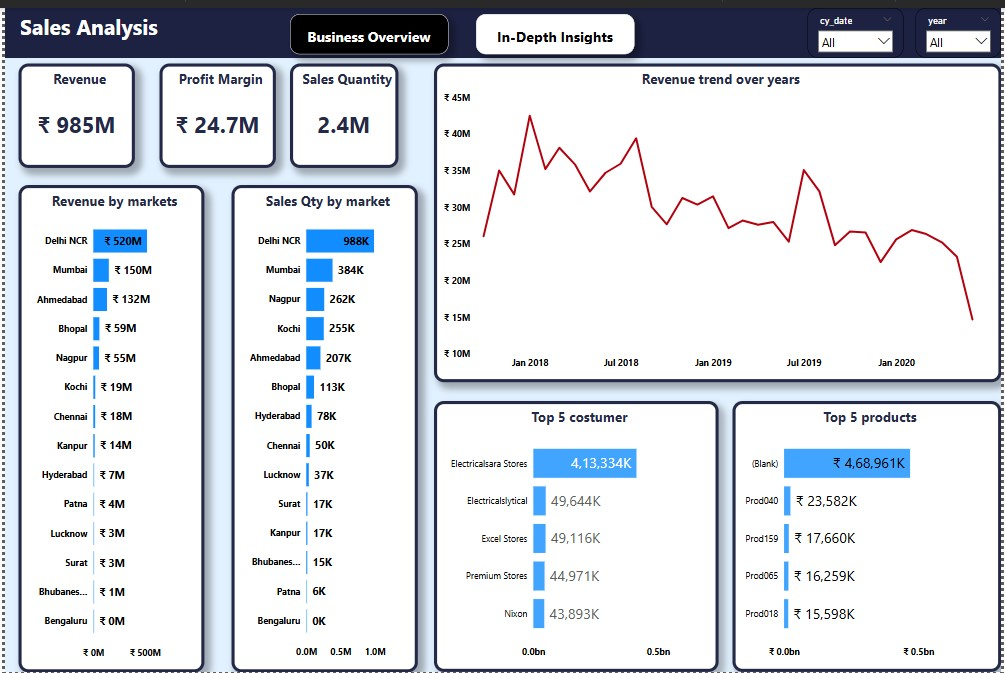

What the dashboard file says about the page in this screenshot:
{"tool":"powerbi","page":{"name":"Business Overview","canvas":[1500,1000],"ordinal":0},"visuals":[{"type":"barChart","title":"Revenue by markets","fields":{"Y":["Base Measures.Revenue"],"Category":["sales markets.markets_name"]},"box":[21.1,265.8,280,733.9],"z":0},{"type":"barChart","title":"Sales Qty by market","fields":{"Y":["Base Measures.Sales Qty"],"Category":["sales markets.markets_name"]},"box":[341.3,265.8,280.9,733.9],"z":1000},{"type":"clusteredBarChart","title":"Top 5 costumer","fields":{"Y":["Base Measures.Revenue"],"Category":["sales customers.custmer_name"]},"box":[646.3,592,428.9,407.7],"z":2000},{"type":"barChart","title":"Top 5 products","fields":{"Y":["Base Measures.Revenue"],"Category":["sales products.product_code"]},"box":[1096.3,592,404.7,407.7],"z":3000},{"type":"lineChart","title":"Revenue trend over years","fields":{"Y":["Base Measures.Revenue"],"Category":["sales date.cy_date.Variation.Date Hierarchy.Year","sales date.cy_date.Variation.Date Hierarchy.Quarter","sales date.cy_date.Variation.Date Hierarchy.Month","sales date.cy_date.Variation.Date Hierarchy.Day"]},"box":[646.3,84.6,854.7,480.2],"z":4000},{"type":"textbox","box":[0,0,1501,75.5],"z":5000},{"type":"slicer","fields":{"Values":["sales date.year"]},"box":[1371.2,0,128.8,74.5],"z":6000},{"type":"slicer","fields":{"Values":["sales date.cy_date"]},"box":[1208.6,0,144.6,74.5],"z":7000},{"type":"card","title":"Revenue","fields":{"Values":["Base Measures.Revenue"]},"box":[21.1,84.6,175.2,157.1],"z":8000},{"type":"card","title":"Sales Quantity","fields":{"Values":["Base Measures.Sales Qty"]},"box":[428.9,84.6,163.1,157.1],"z":9000},{"type":"card","title":"Profit Margin","fields":{"Values":["Base Measures.Total profit margin"]},"box":[232.6,84.6,175.2,157.1],"z":10000},{"type":"actionButton","box":[428.9,9.1,238.6,60.4],"z":11000},{"type":"actionButton","box":[709.7,9.1,238.6,60.4],"z":12000}]}

Visuals, with their boxes in screenshot pixels (x1, y1, x2, y2), scaled from the page's 1500x1000 canvas onto the 1005x673 screenshot:
"Revenue by markets" barChart: [left=14, top=179, right=202, bottom=672]
"Sales Qty by market" barChart: [left=229, top=179, right=417, bottom=672]
"Top 5 costumer" clusteredBarChart: [left=433, top=398, right=720, bottom=672]
"Top 5 products" barChart: [left=735, top=398, right=1004, bottom=672]
"Revenue trend over years" lineChart: [left=433, top=57, right=1004, bottom=380]
textbox: [left=0, top=0, right=1004, bottom=51]
slicer - sales date.year: [left=919, top=0, right=1004, bottom=50]
slicer - sales date.cy_date: [left=810, top=0, right=907, bottom=50]
"Revenue" card: [left=14, top=57, right=132, bottom=163]
"Sales Quantity" card: [left=287, top=57, right=397, bottom=163]
"Profit Margin" card: [left=156, top=57, right=273, bottom=163]
actionButton: [left=287, top=6, right=447, bottom=47]
actionButton: [left=475, top=6, right=635, bottom=47]
